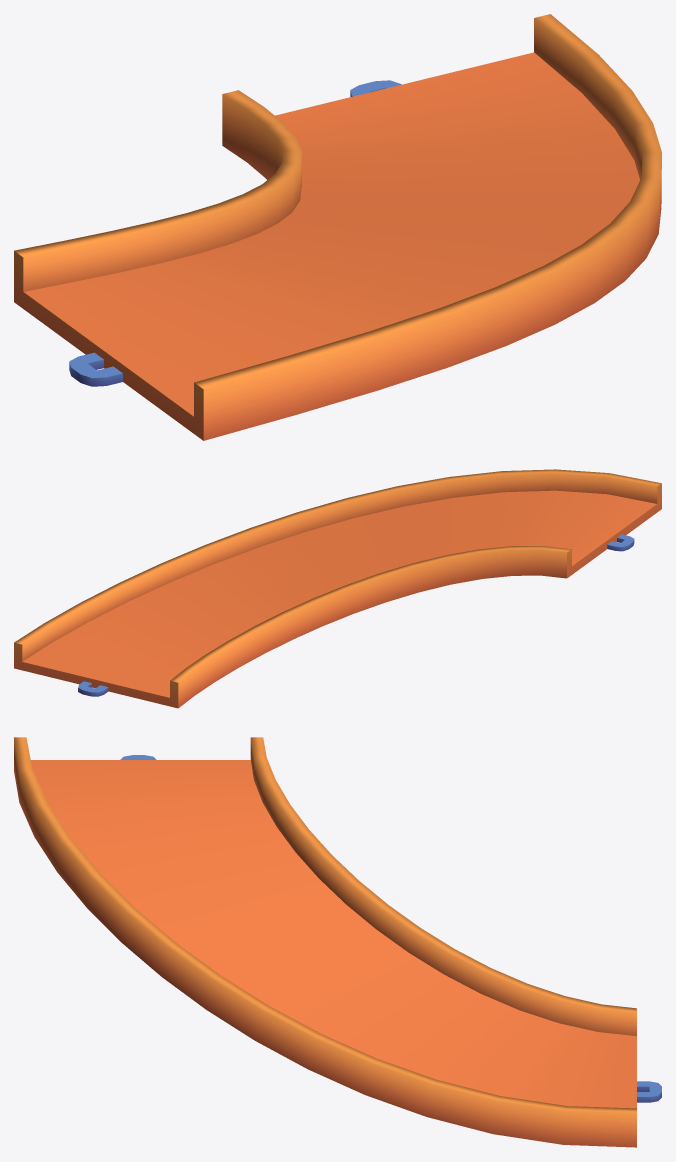
Rendered from track-wide-corner-large-ramp.glb.
3 renders of one model, top to bottom at view 1: azimuth 30°, elevation 25°; view 2: azimuth 150°, elevation 25°; view 3: azimuth 270°, elevation 25°, orthographic. The views are drawn at different scales.
Visible parts, largest first — view 1: track-wide-corner-large-ramp; view 2: track-wide-corner-large-ramp; view 3: track-wide-corner-large-ramp.
Part boxes in pixels (x1,y1,x2,y2): track-wide-corner-large-ramp: (14,14,661,440); track-wide-corner-large-ramp: (14,469,661,708); track-wide-corner-large-ramp: (14,737,661,1147).
Size of the model in its own units: 5.2 by 1.3 by 5.2.
Materials: 1 (1 with a texture image).
